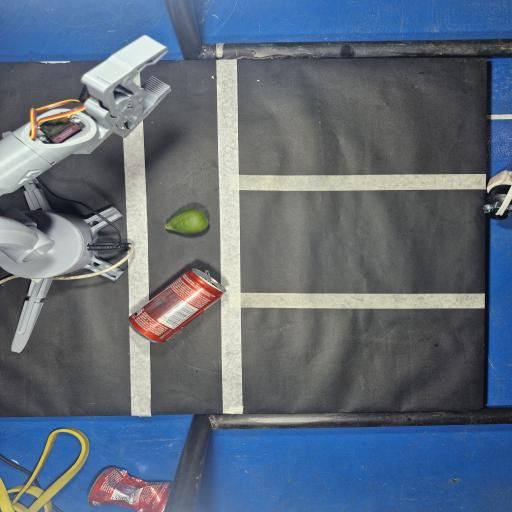higo: (165, 209, 208, 234)
lata: (129, 268, 226, 342)
